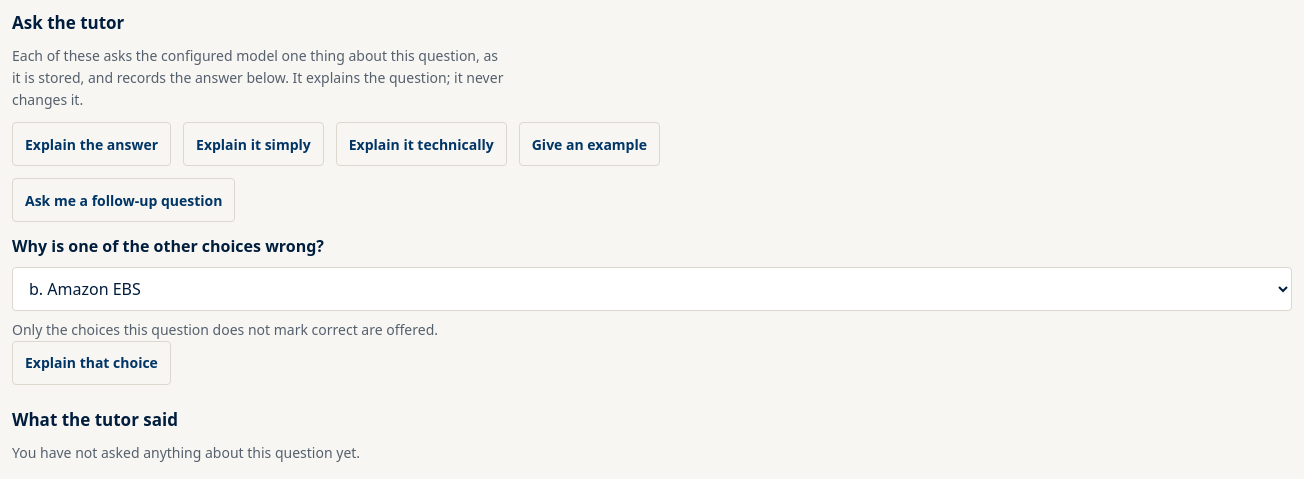
Test: the asks › shows a refusal beside the ask that was refused
This screenshot has width=1304, height=479.
Click the button "Give an example" at [589, 144], box [519,122,660,166]
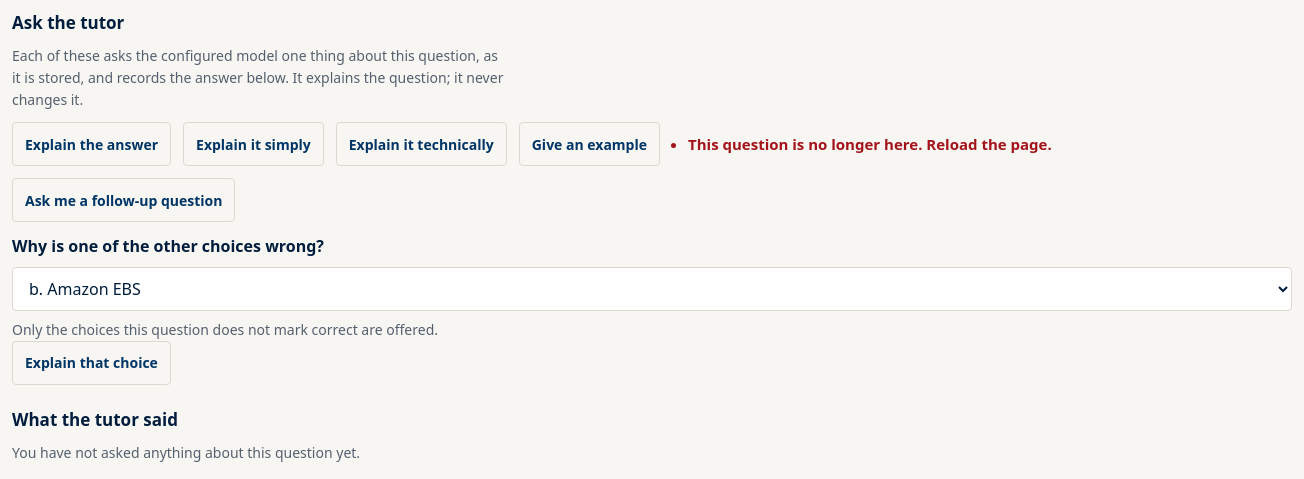
Now the list item "This question is no longer here. Reload the page." is shown, box [688,133,1052,156]
